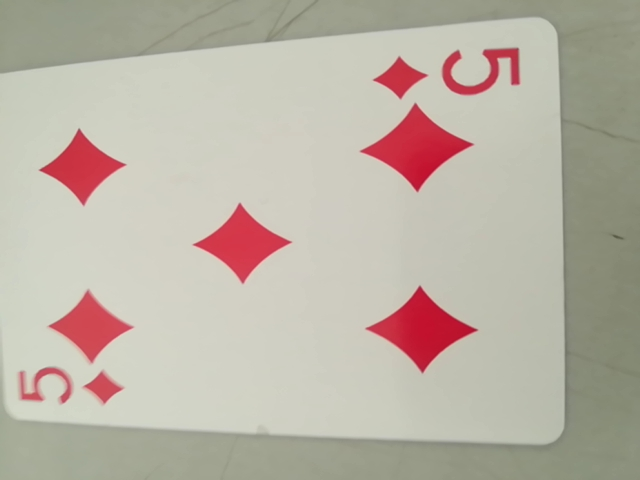fk 5: (374, 38, 518, 107), (9, 360, 130, 417)
